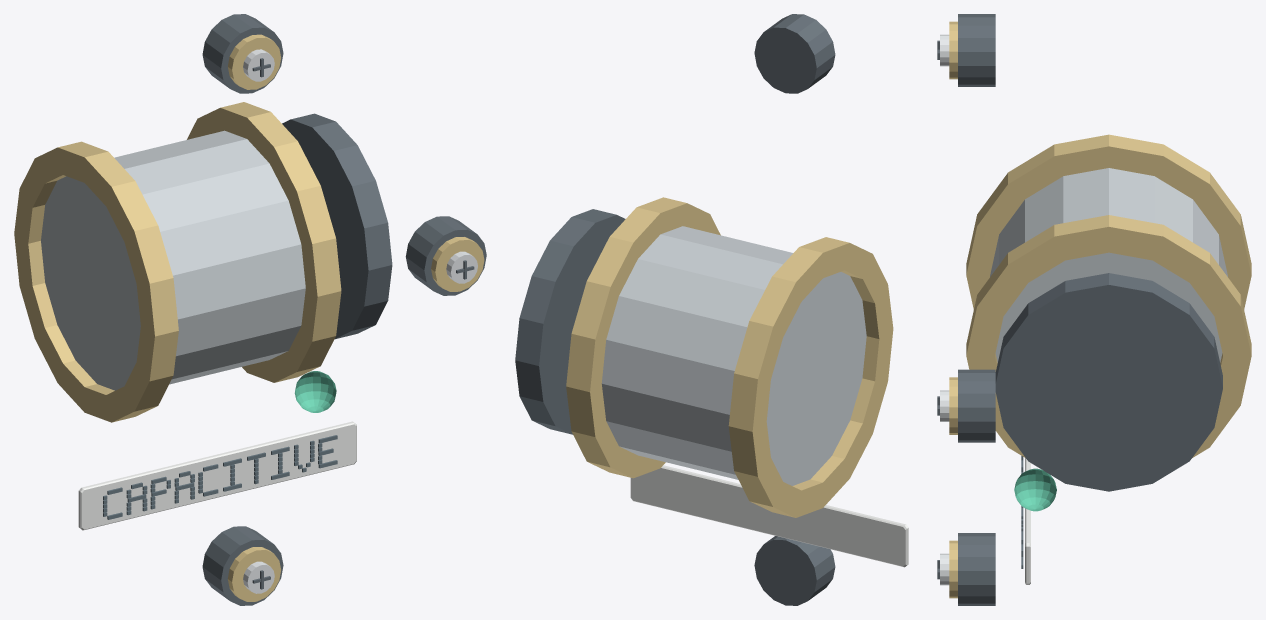
Rendered from capacitiveSensor.glb.
The picture shows the model from 3 angles, left to right: view 1: azimuth 30°, elevation 25°; view 2: azimuth 150°, elevation 25°; view 3: azimuth 270°, elevation 25°; orthographic projection.
Parts seen in each view (by area): view 1: capacitiveSensor-preview; view 2: capacitiveSensor-preview; view 3: capacitiveSensor-preview.
Boxes of the visible parts, x1=… form: capacitiveSensor-preview: x1=14, y1=14, x2=486, y2=605; capacitiveSensor-preview: x1=515, y1=14, x2=908, y2=605; capacitiveSensor-preview: x1=937, y1=14, x2=1251, y2=605.
Bounding box in the file's own units: 1.87 × 2.77 × 1.35.
